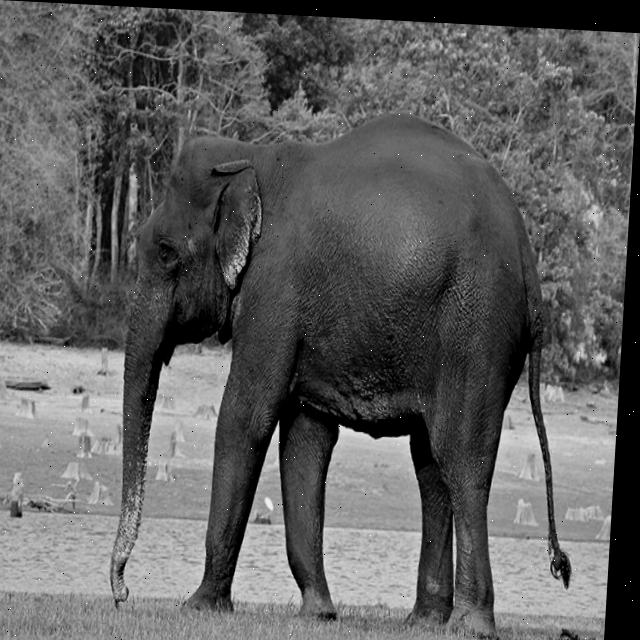Elephant: (106, 97, 598, 640)
